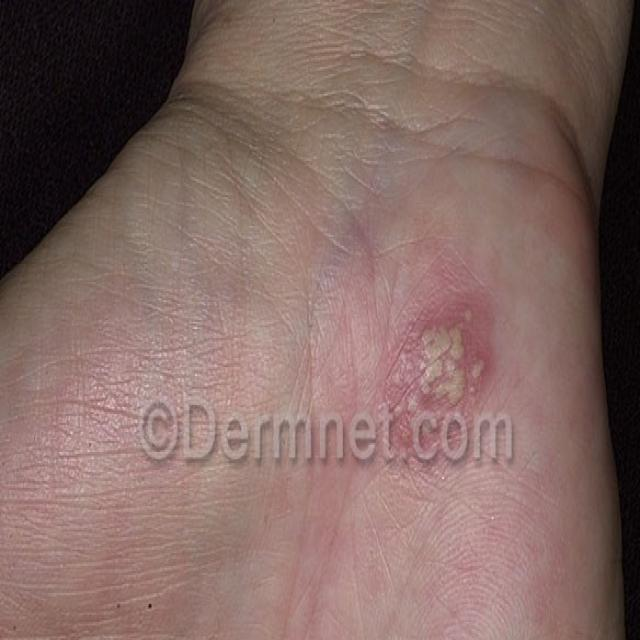Viral Infections: (371, 273, 505, 503)
